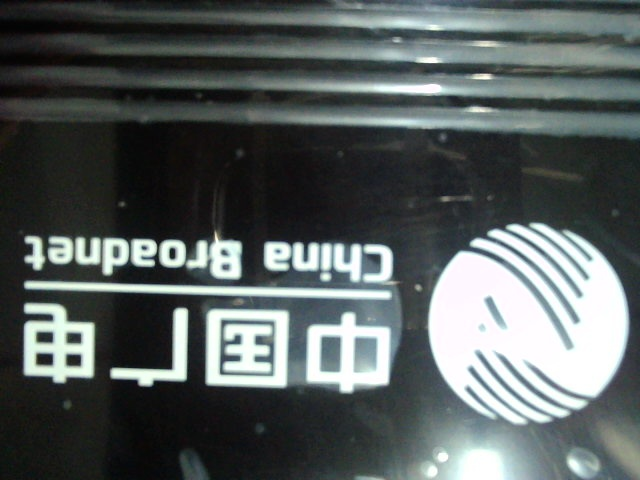AW_ChinaBroadNet: (10, 208, 632, 431)
